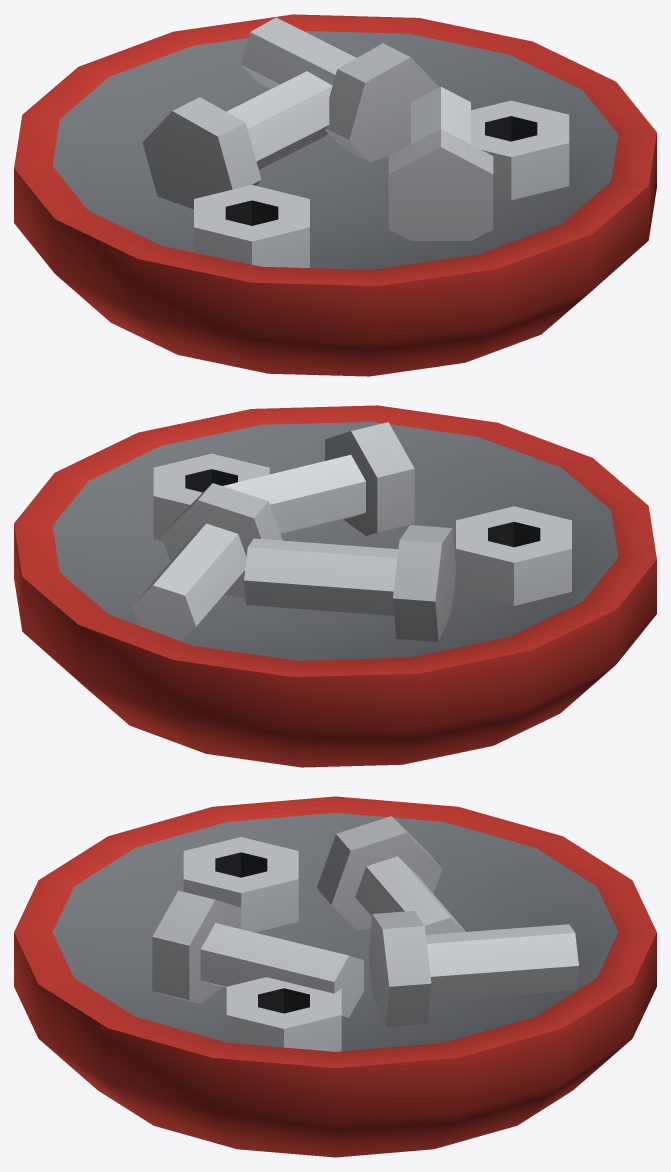
File: BoltTray_01.glb
The picture shows the model from 3 angles, top to bottom: view 1: azimuth 30°, elevation 25°; view 2: azimuth 150°, elevation 25°; view 3: azimuth 270°, elevation 25°; orthographic projection.
Visible parts, largest first — view 1: SM_BoltTray_01; view 2: SM_BoltTray_01; view 3: SM_BoltTray_01.
Boxes of the visible parts, x1,y1,x2,y2 form: SM_BoltTray_01: [14, 14, 656, 376]; SM_BoltTray_01: [14, 405, 656, 767]; SM_BoltTray_01: [14, 796, 656, 1157].
Bounding box in the file's own units: 0.15 × 0.044 × 0.15.
1 material, 1 textured.
